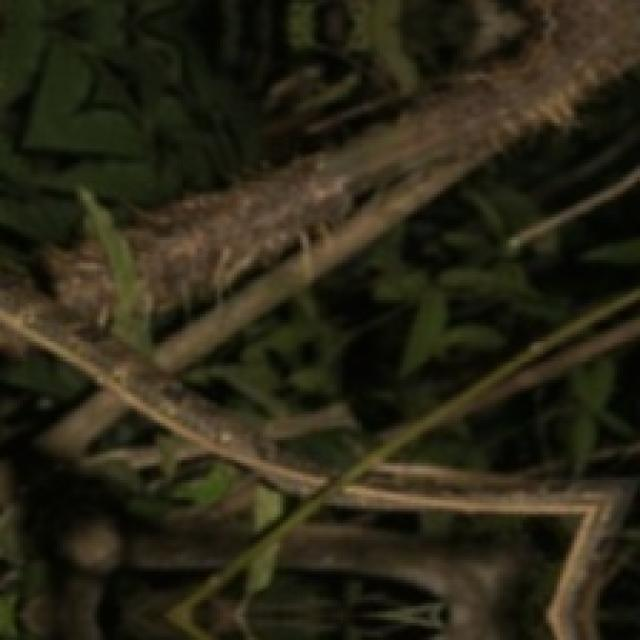dog-toothed cat snake: (0, 294, 329, 497), (329, 462, 632, 640)
